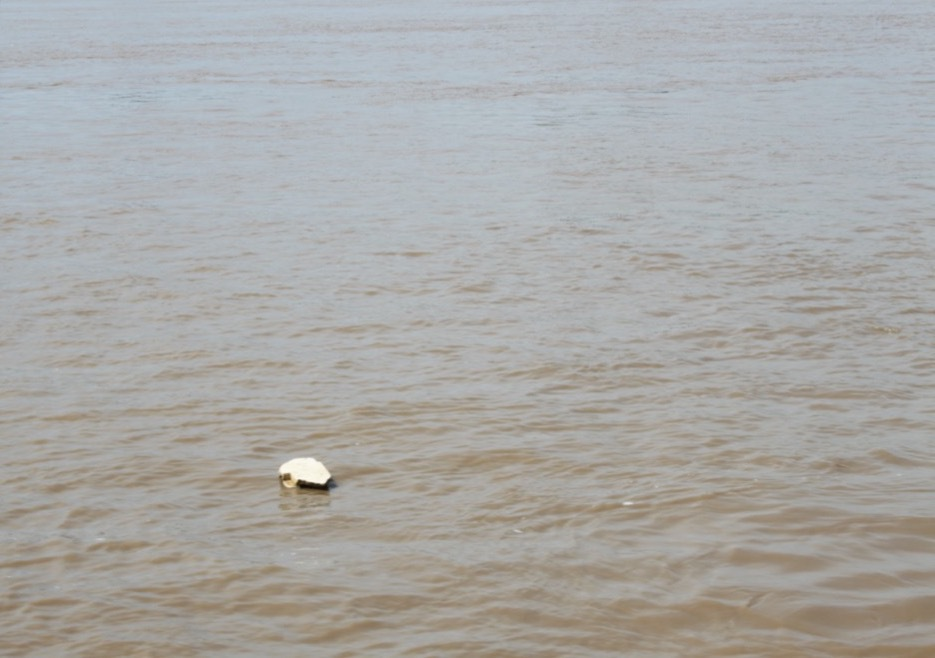plastic: (267, 443, 346, 544)
